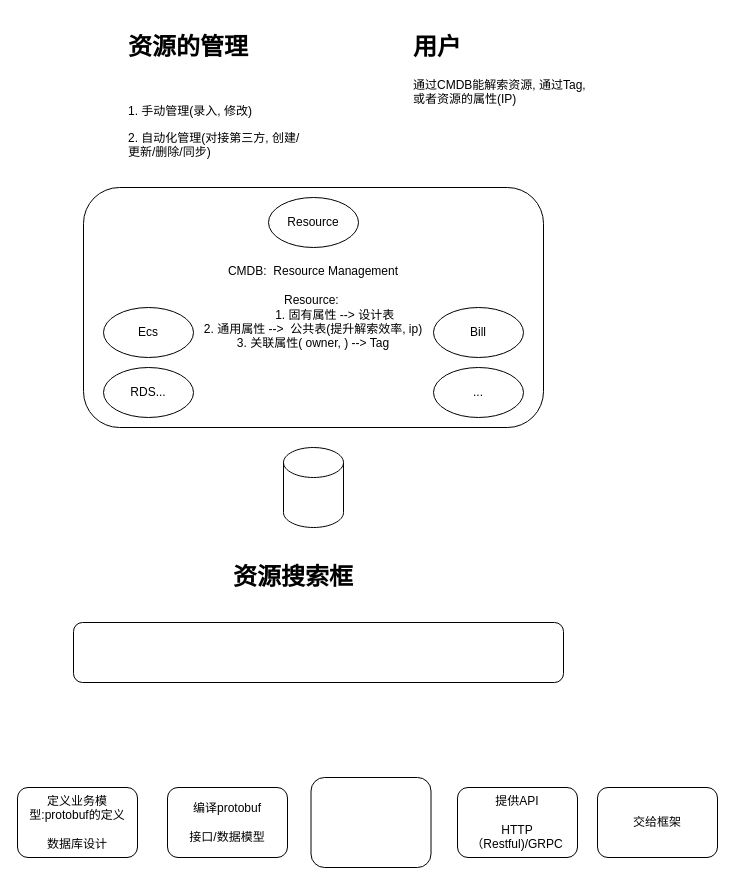
Image size: 735x885. Some labels were removed from this diagram. Here are the shapes that lost their labels. From the top down, the box of each, then its label:
(282, 446, 344, 528): MySQL
(72, 622, 564, 682): ip/instance_name/instance_description/tags=app=appv1
(310, 776, 431, 868): 码代码: 接口的实现类 实例类并没由对外使用接口
